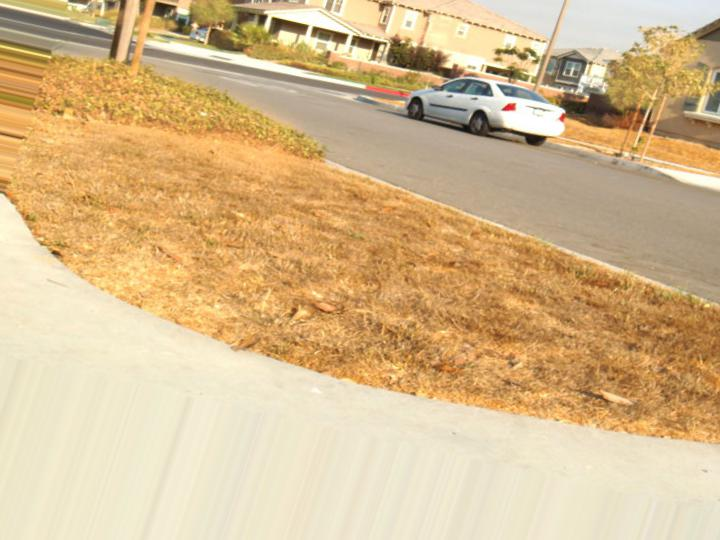patch: (100, 135, 554, 373), (543, 282, 698, 387), (52, 92, 128, 257), (87, 75, 245, 130), (582, 126, 705, 168)
